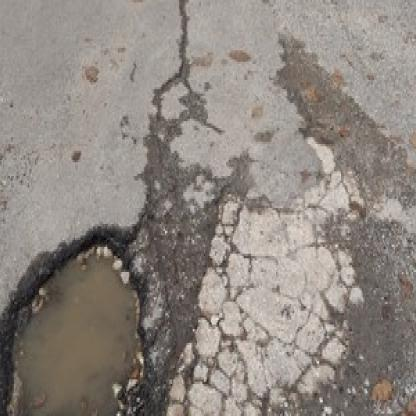pothole: (0, 224, 149, 416)
